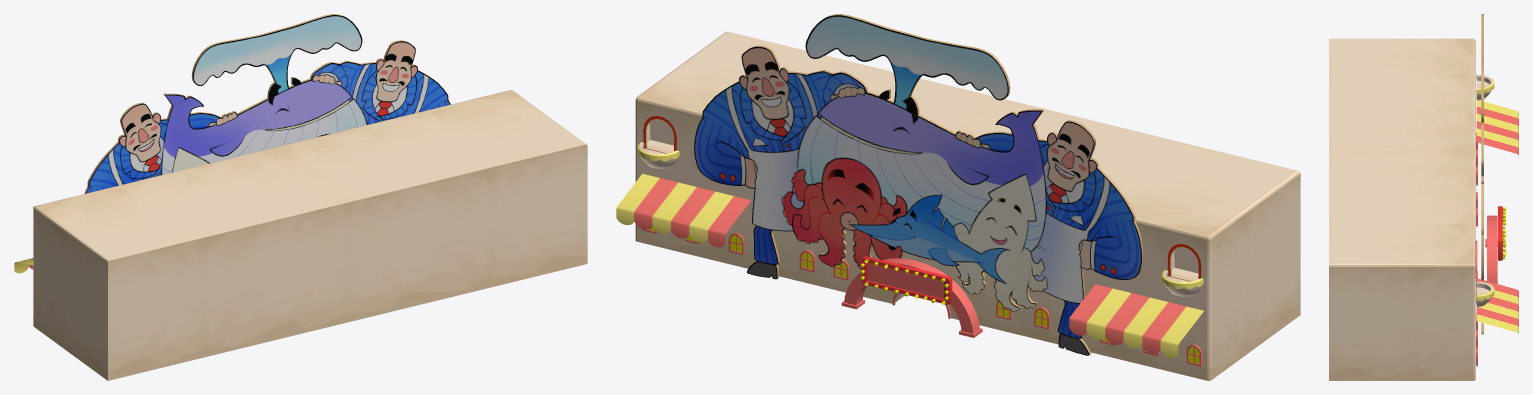
File: Mafia_hq_Poly.FBX
The picture shows the model from 3 angles, left to right: view 1: azimuth 30°, elevation 25°; view 2: azimuth 150°, elevation 25°; view 3: azimuth 270°, elevation 25°; orthographic projection. The views are drawn at different scales.
Parts seen in each view (by area): view 1: Mafia_HQ_All_polySurface150; view 2: Mafia_HQ_All_polySurface150; view 3: Mafia_HQ_All_polySurface150.
Boxes of the visible parts, bbox=[...] form: Mafia_HQ_All_polySurface150: bbox=[14, 14, 587, 380]; Mafia_HQ_All_polySurface150: bbox=[616, 14, 1300, 380]; Mafia_HQ_All_polySurface150: bbox=[1329, 14, 1518, 380].
Bounding box in the file's own units: 2040 × 954 × 721.
